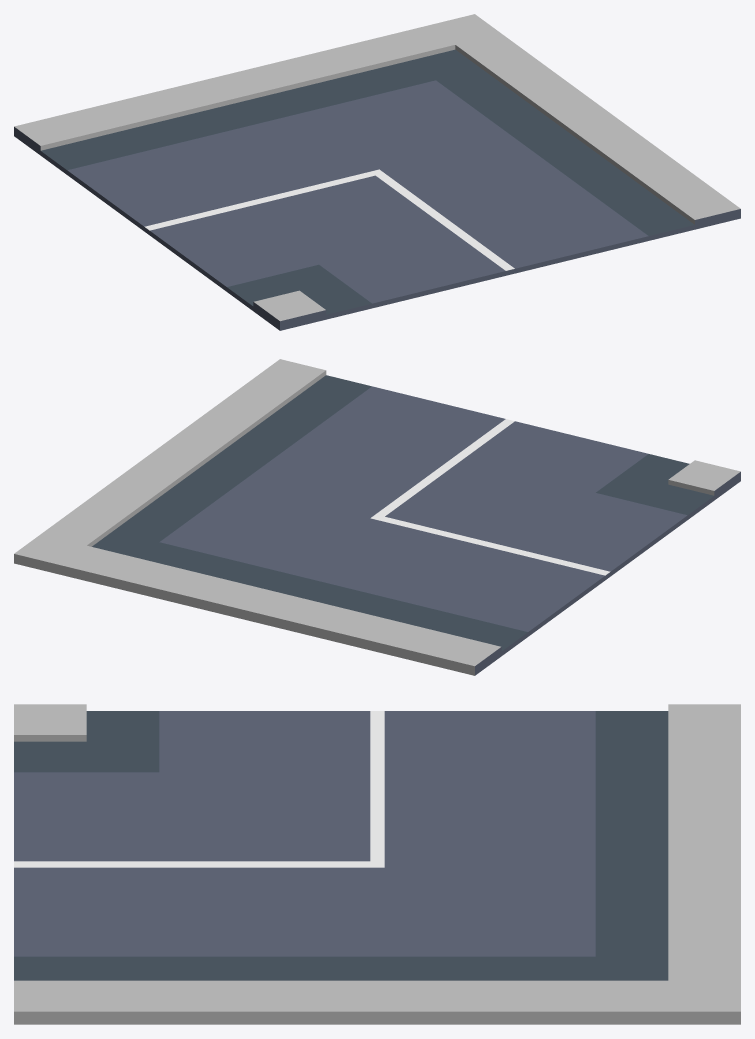
The model's file is SM_Road_Bend_Square.fbx.
The picture shows the model from 3 angles, top to bottom: view 1: azimuth 30°, elevation 25°; view 2: azimuth 150°, elevation 25°; view 3: azimuth 270°, elevation 25°; orthographic projection. The views are drawn at different scales.
Parts seen in each view (by area): view 1: SM_Road_Bend_Square; view 2: SM_Road_Bend_Square; view 3: SM_Road_Bend_Square.
Part boxes in pixels (x1=…): SM_Road_Bend_Square: x1=14, y1=14, x2=740, y2=330; SM_Road_Bend_Square: x1=14, y1=359, x2=740, y2=675; SM_Road_Bend_Square: x1=14, y1=704, x2=740, y2=1024.
Size of the model in its own units: 1000 by 20 by 1000.
